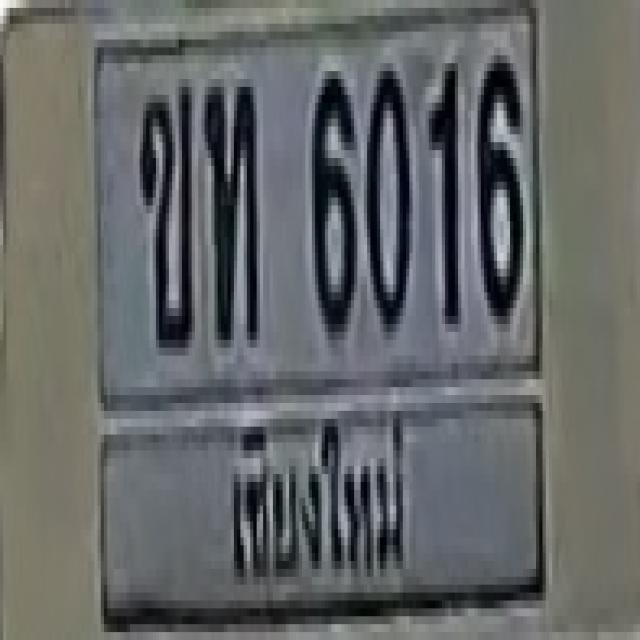-: (136, 79, 192, 340), (202, 75, 256, 336)
0: (364, 63, 409, 324)
1: (428, 55, 457, 316)
6: (476, 47, 521, 316), (309, 67, 354, 328)
CMI: (208, 400, 419, 599)
